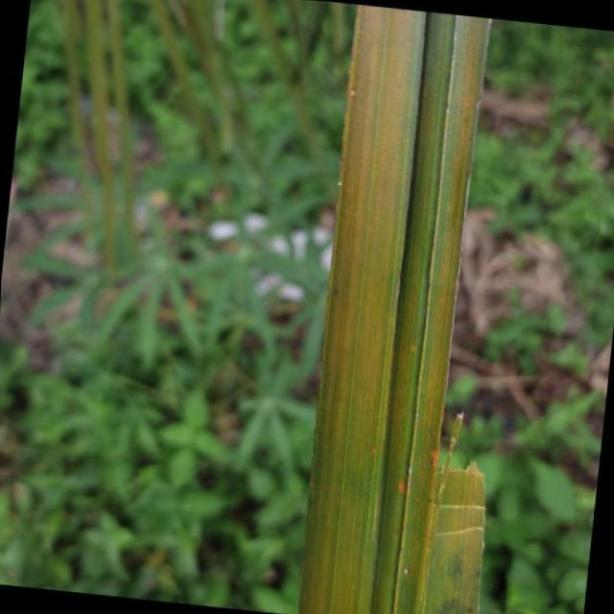Megnesium: (300, 0, 495, 614)
